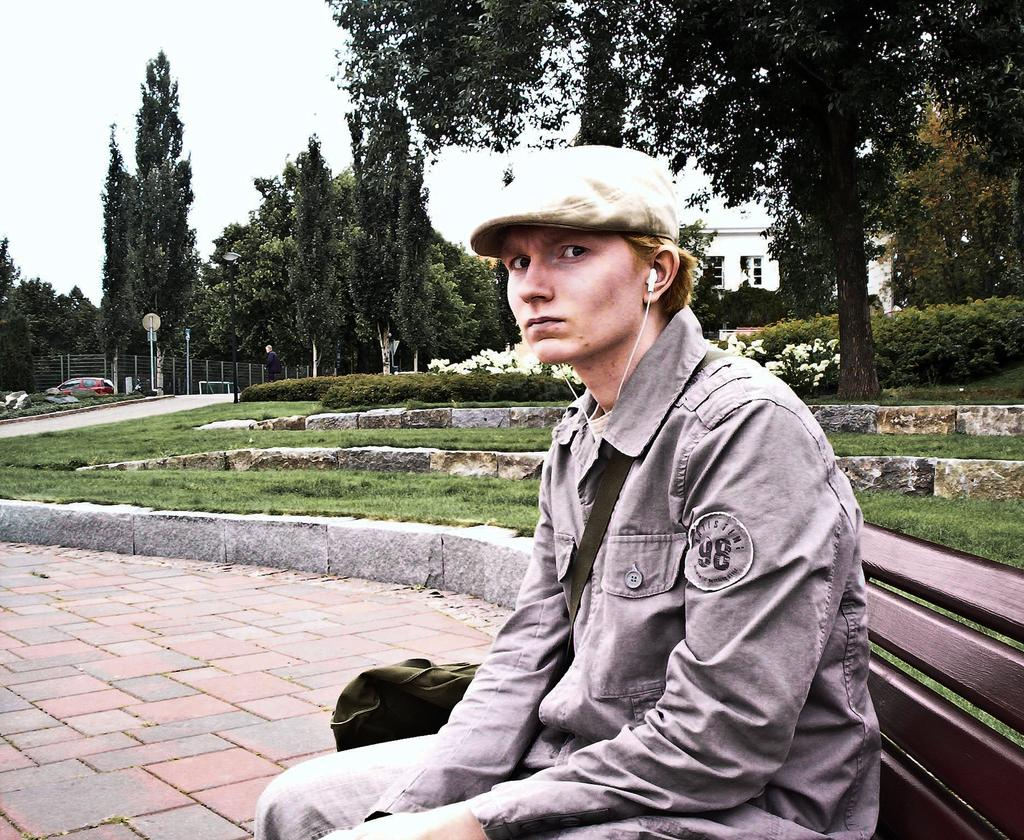Hat: (464, 144, 676, 258)
